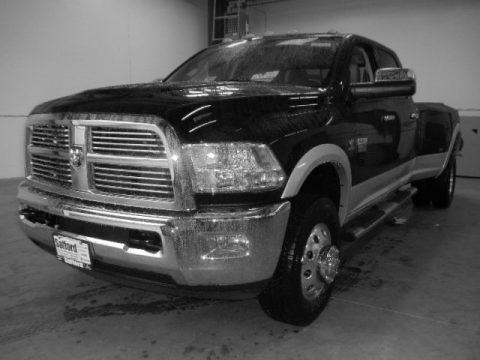car: (19, 33, 466, 327)
